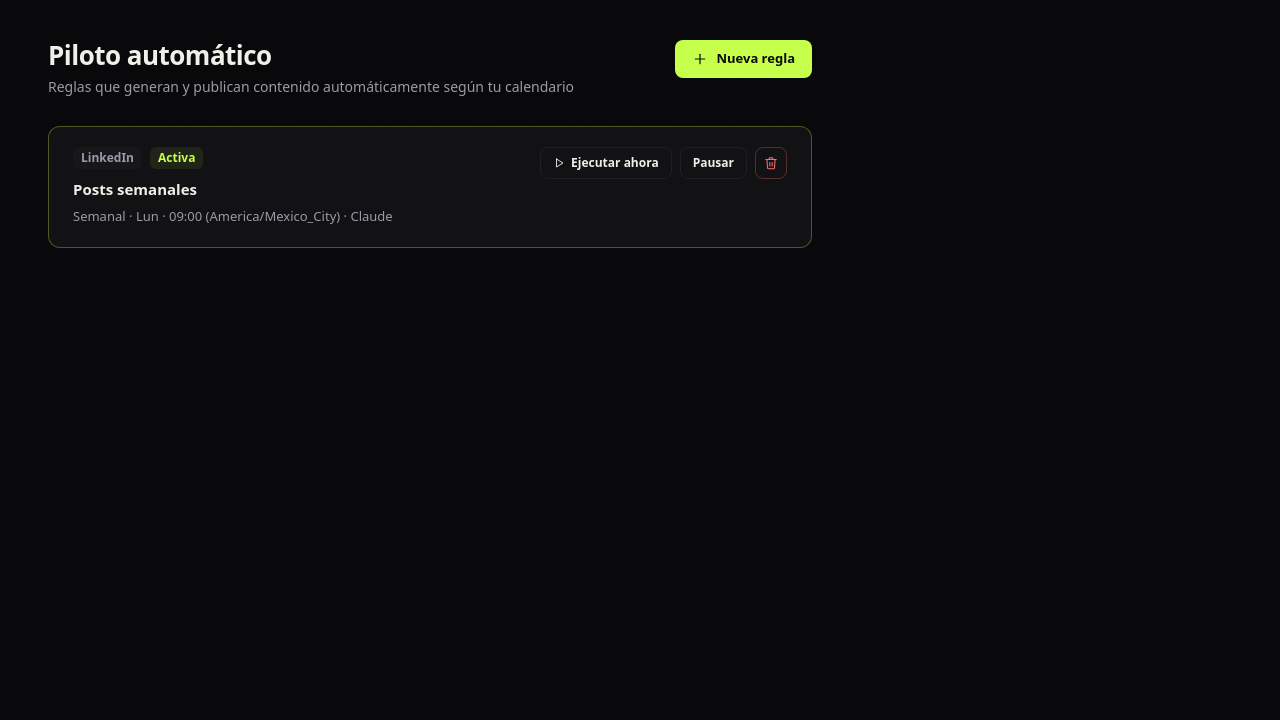
Test: Piloto automático › eliminar usa el diálogo de la app; cancelar no borra
Expected: the heading "Posts semanales" is shown, [73,179,197,199]
Click the button named "Eliminar regla": (771, 163) [755,147,787,179]
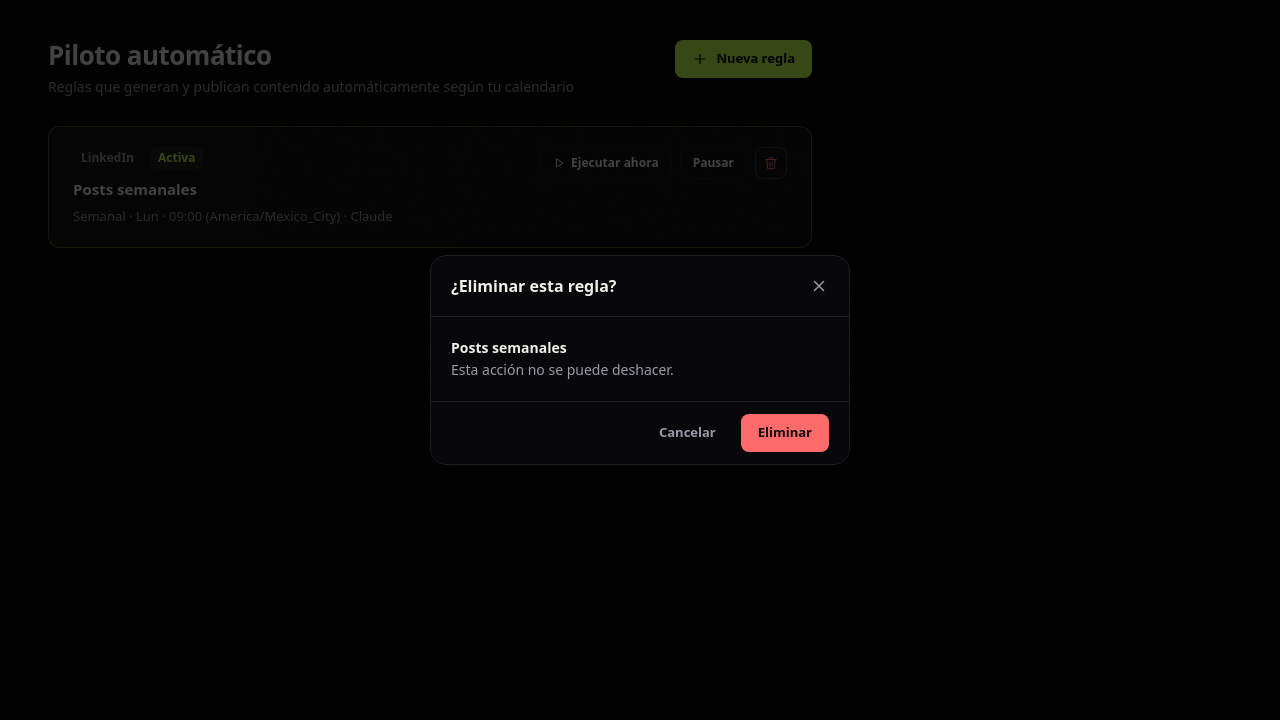
Click the button "Cancelar": (687, 433) [642,414,733,452]
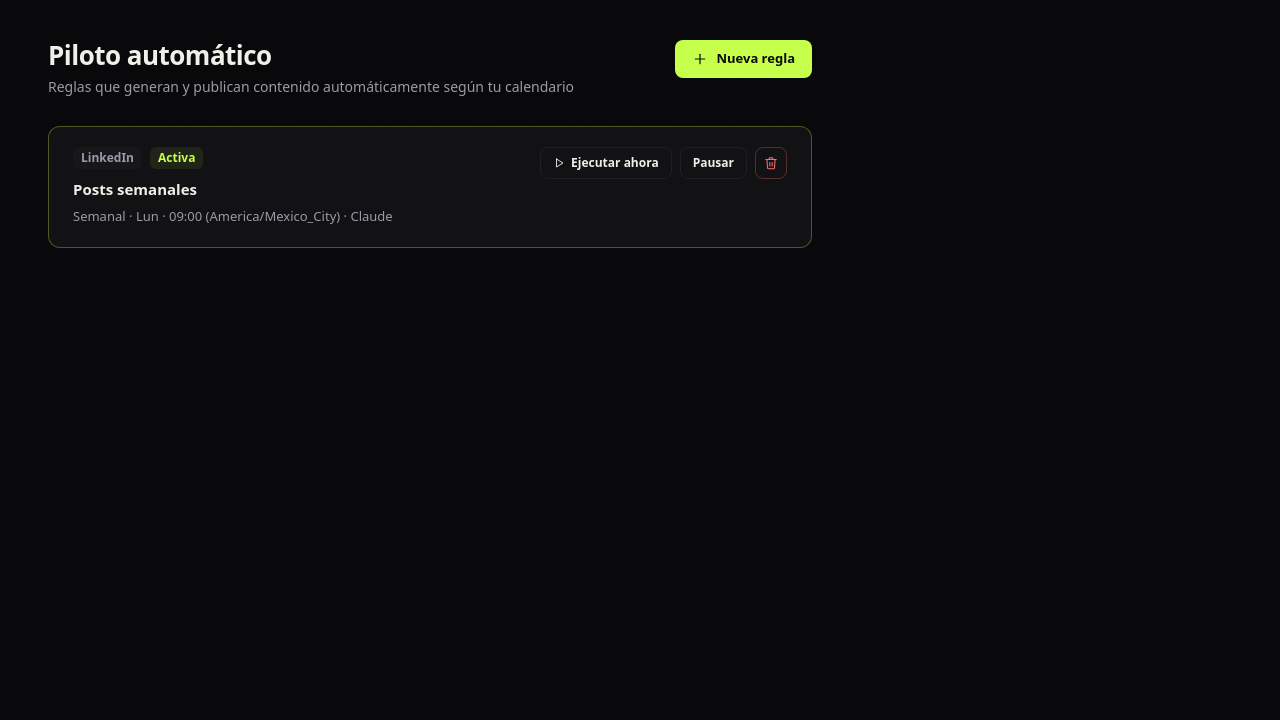
Expected: the heading "Posts semanales" is shown, [73,179,197,199]
Expected: the dialog is gone
Click the button named "Eliminar regla": (771, 163) [755,147,787,179]
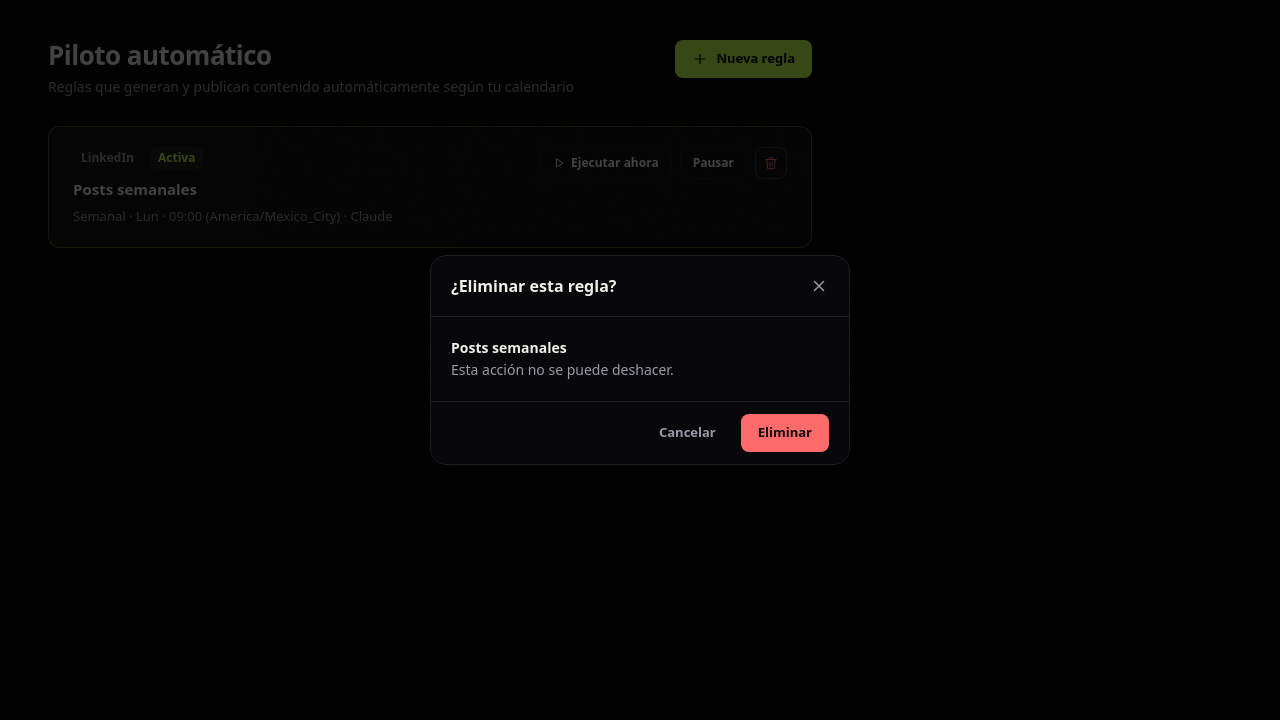
Click the button "Eliminar": (785, 433) [741,414,829,452]
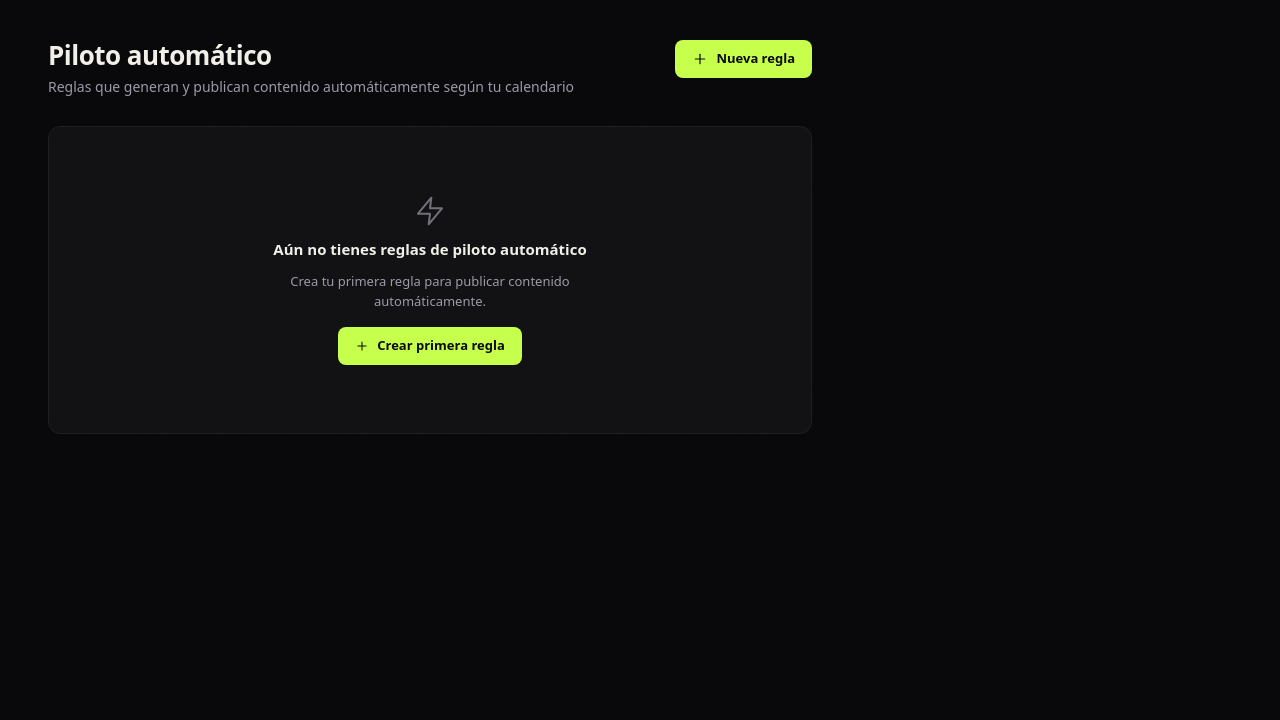
Expected: the heading "Posts semanales" is gone
